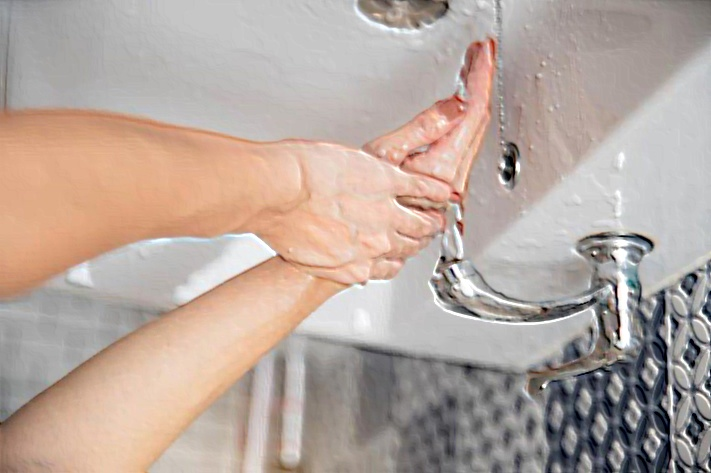washing hand: (176, 14, 651, 450)
